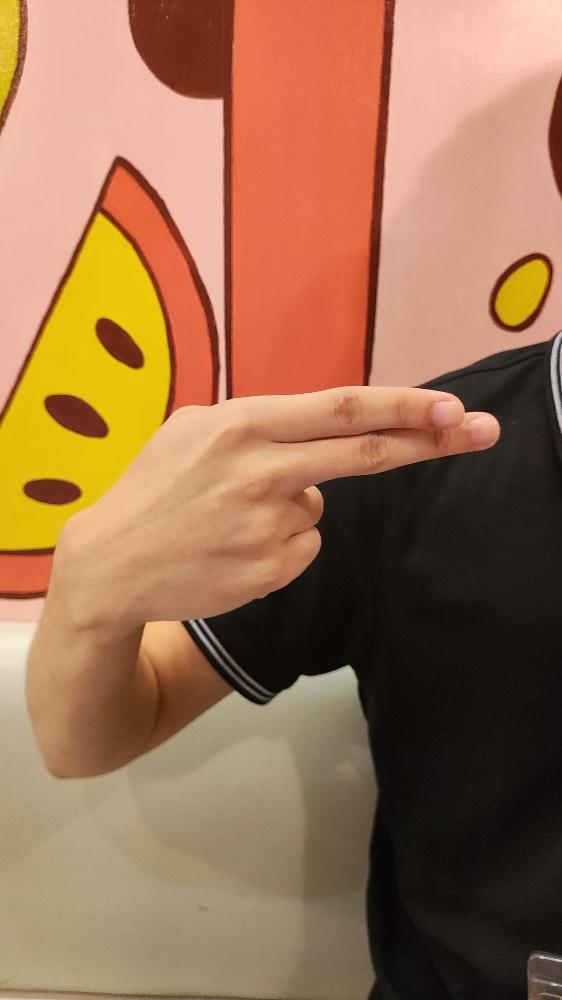h: (56, 383, 502, 621)
